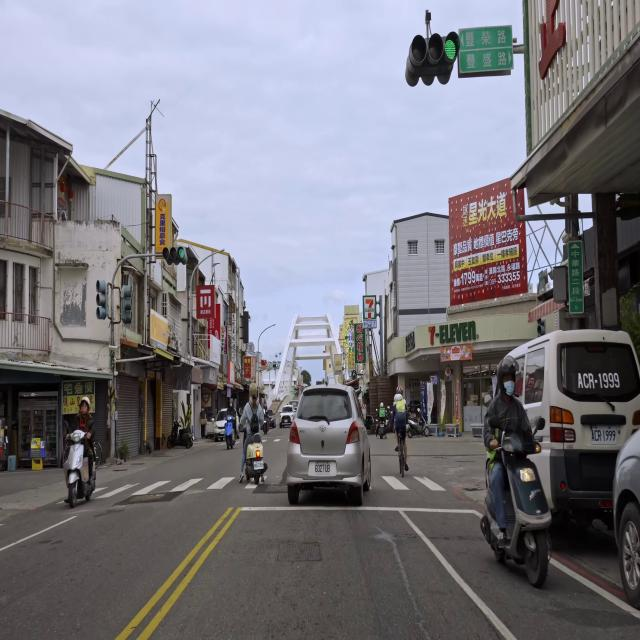green light: (410, 35, 461, 63), (161, 247, 186, 262)
